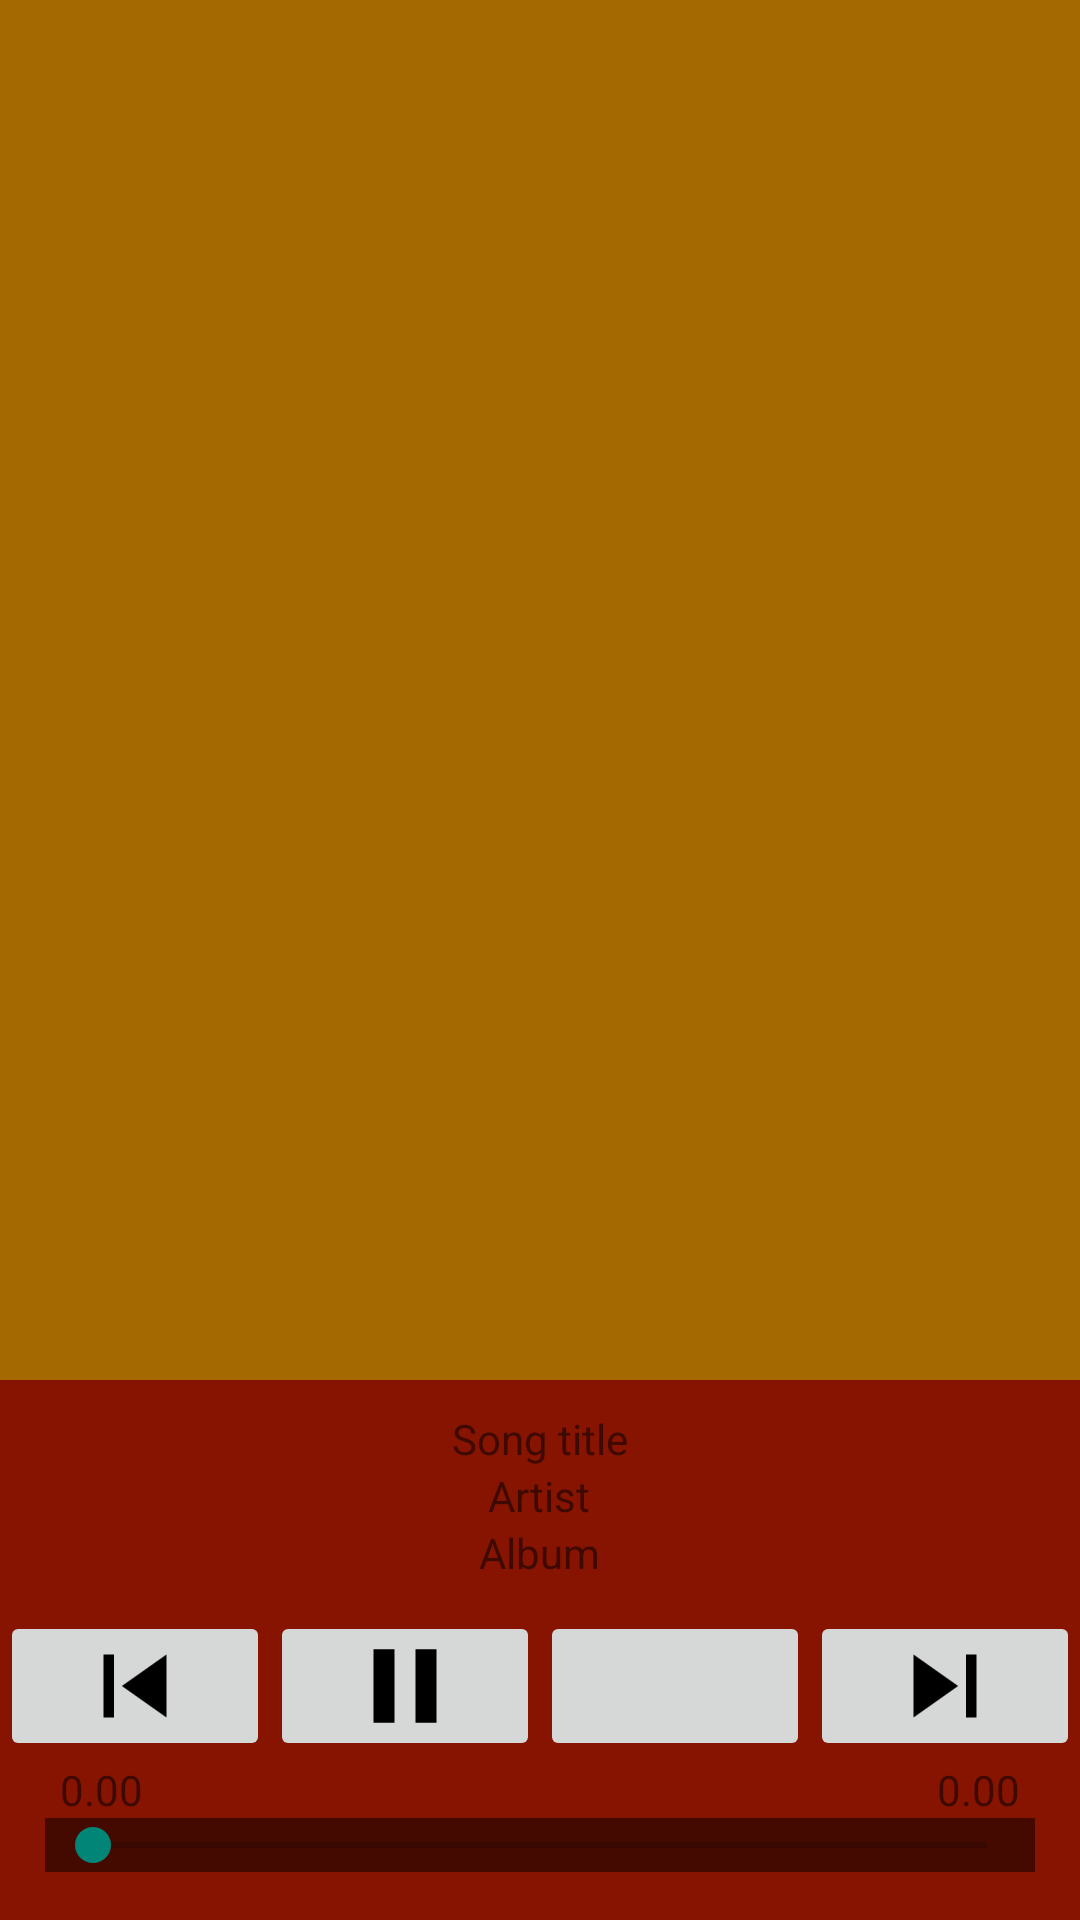

Screen size 1080*1920. Icon name, then its center in pixels as (x=x, y=y):
next: (x=945, y=1686)
pause: (x=405, y=1686)
previous: (x=135, y=1686)
